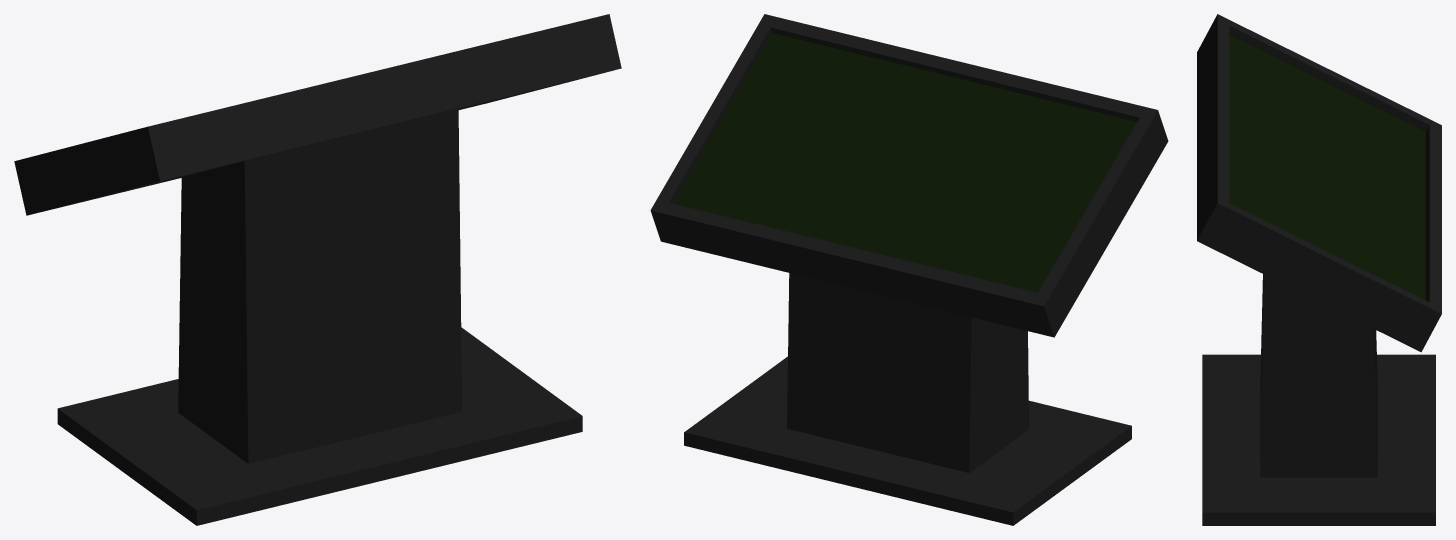
Rendered from infostand.fbx.
The picture shows the model from 3 angles, left to right: view 1: azimuth 30°, elevation 25°; view 2: azimuth 150°, elevation 25°; view 3: azimuth 270°, elevation 25°; orthographic projection. The views are drawn at different scales.
Parts seen in each view (by area): view 1: Cube; view 2: Cube; view 3: Cube.
Part boxes in pixels (x1,y1,x2,y2): Cube: (14, 14, 621, 525); Cube: (650, 14, 1168, 525); Cube: (1197, 14, 1441, 525).
Bounding box in the file's own units: 109 × 90.38 × 59.38.
